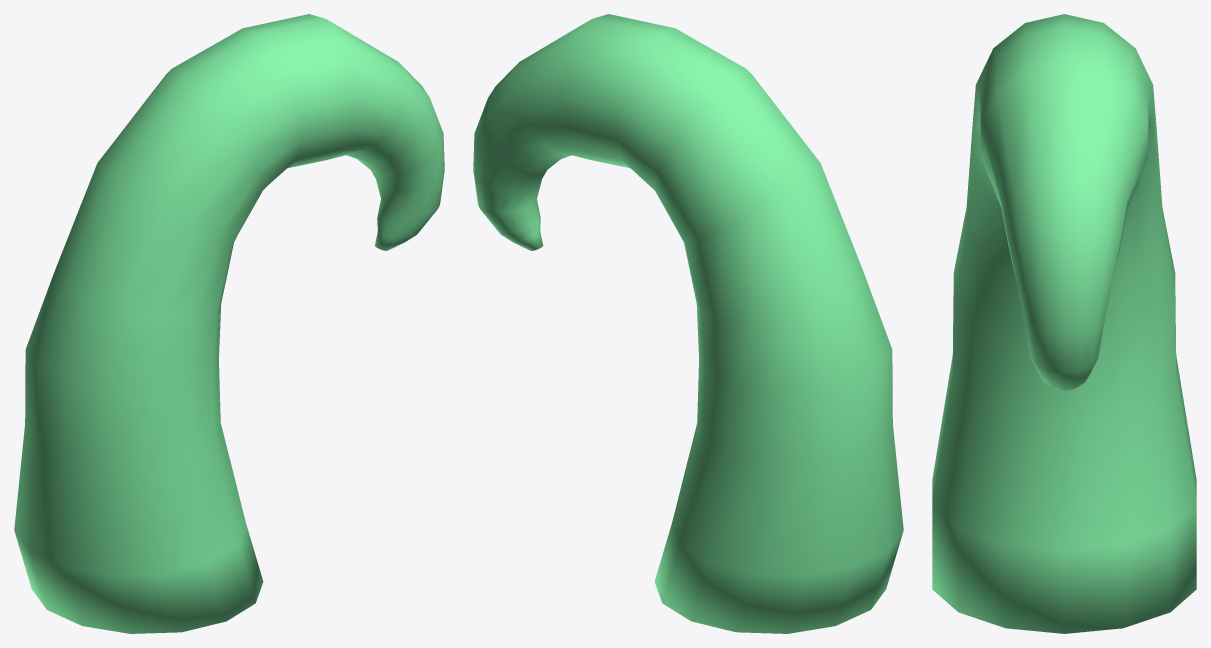
File: Tentacles.FBX
The picture shows the model from 3 angles, left to right: view 1: azimuth 30°, elevation 25°; view 2: azimuth 150°, elevation 25°; view 3: azimuth 270°, elevation 25°; orthographic projection. The views are drawn at different scales.
Visible parts, largest first — view 1: Cylinder001; view 2: Cylinder001; view 3: Cylinder001.
Boxes of the visible parts, x1,y1,x2,y2 form: Cylinder001: [14, 14, 444, 633]; Cylinder001: [473, 14, 903, 633]; Cylinder001: [932, 14, 1196, 633].
Bounding box in the file's own units: 96.64 × 118 × 46.16.
